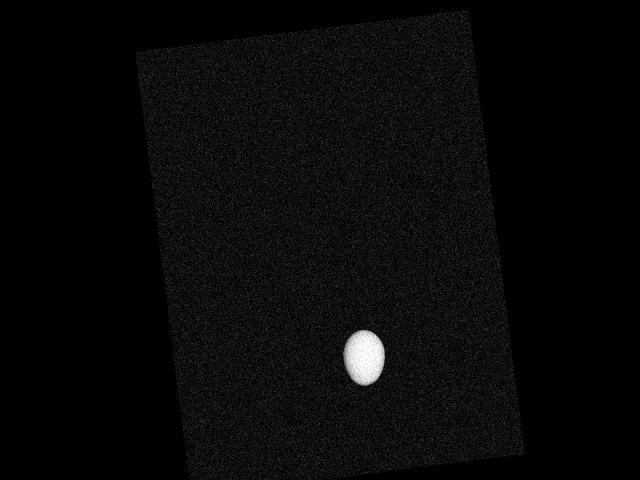egg: (340, 327, 388, 387)
